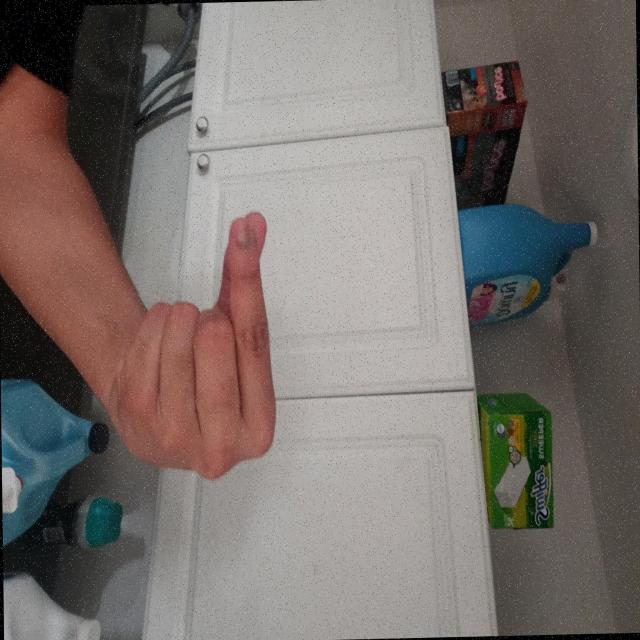G: (283, 404, 567, 640)
